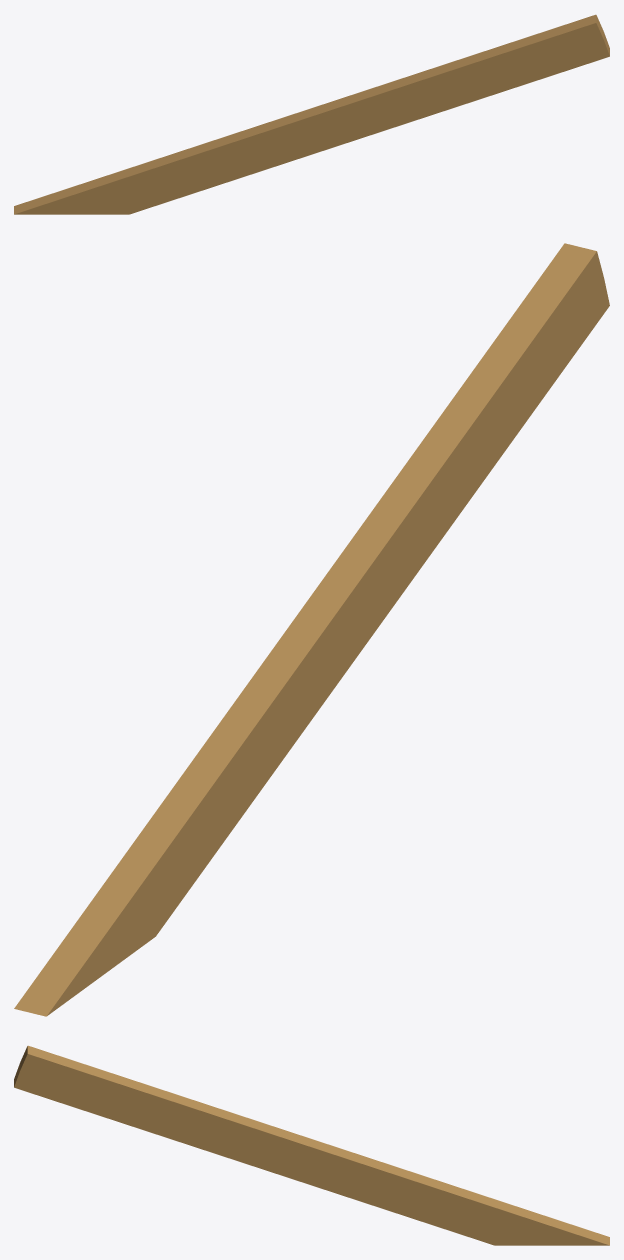
The picture shows the model from 3 angles, top to bottom: view 1: azimuth 90°, elevation 25°; view 2: azimuth 150°, elevation 25°; view 3: azimuth 270°, elevation 25°; orthographic projection. The views are drawn at different scales.
Parts seen in each view (by area): view 1: L1-3-S4-31C-M01; view 2: L1-3-S4-31C-M01; view 3: L1-3-S4-31C-M01.
Boxes of the visible parts, bbox=[...] form: L1-3-S4-31C-M01: bbox=[14, 14, 609, 214]; L1-3-S4-31C-M01: bbox=[14, 243, 609, 1016]; L1-3-S4-31C-M01: bbox=[14, 1045, 609, 1245].
Bounding box in the file's own units: 0.045 × 0.4809 × 1.36.
